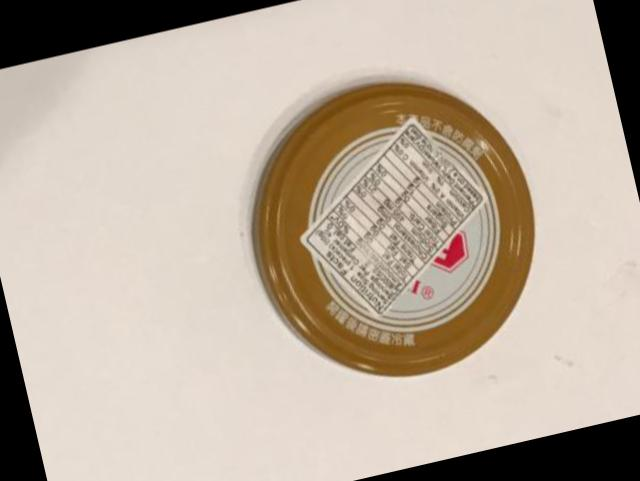metal: (255, 84, 536, 376)
